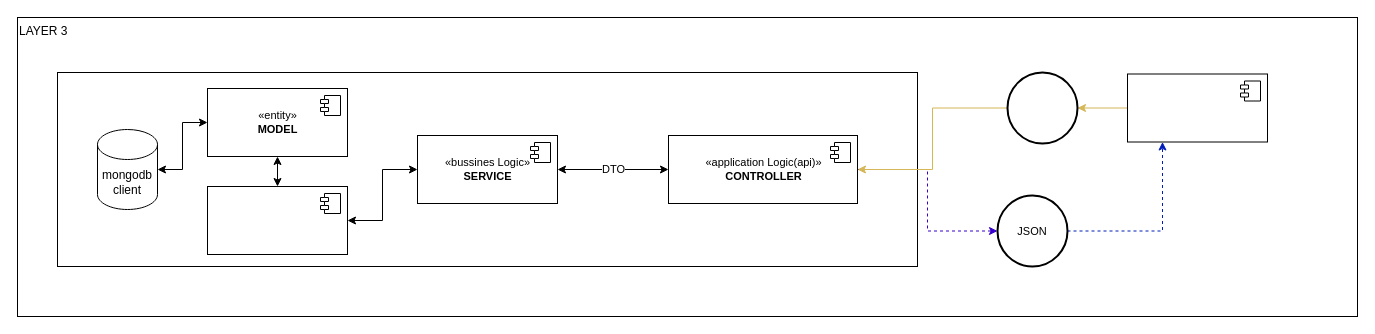
The diagram is 1375 pixels wide and 334 high, and some of its shapes have lost their labels. The centre of each missing label's shape, as x and y in pixels:
"BROSER" goes at (1197,107).
"HTTP REQUEST" goes at (1042,107).
"«jpa of Mongdb» REPOSITORY" goes at (277,220).
